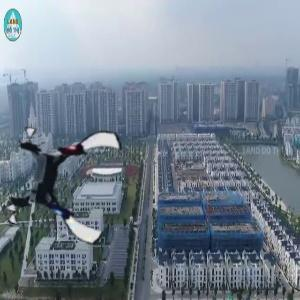drone: (7, 121, 126, 240)
